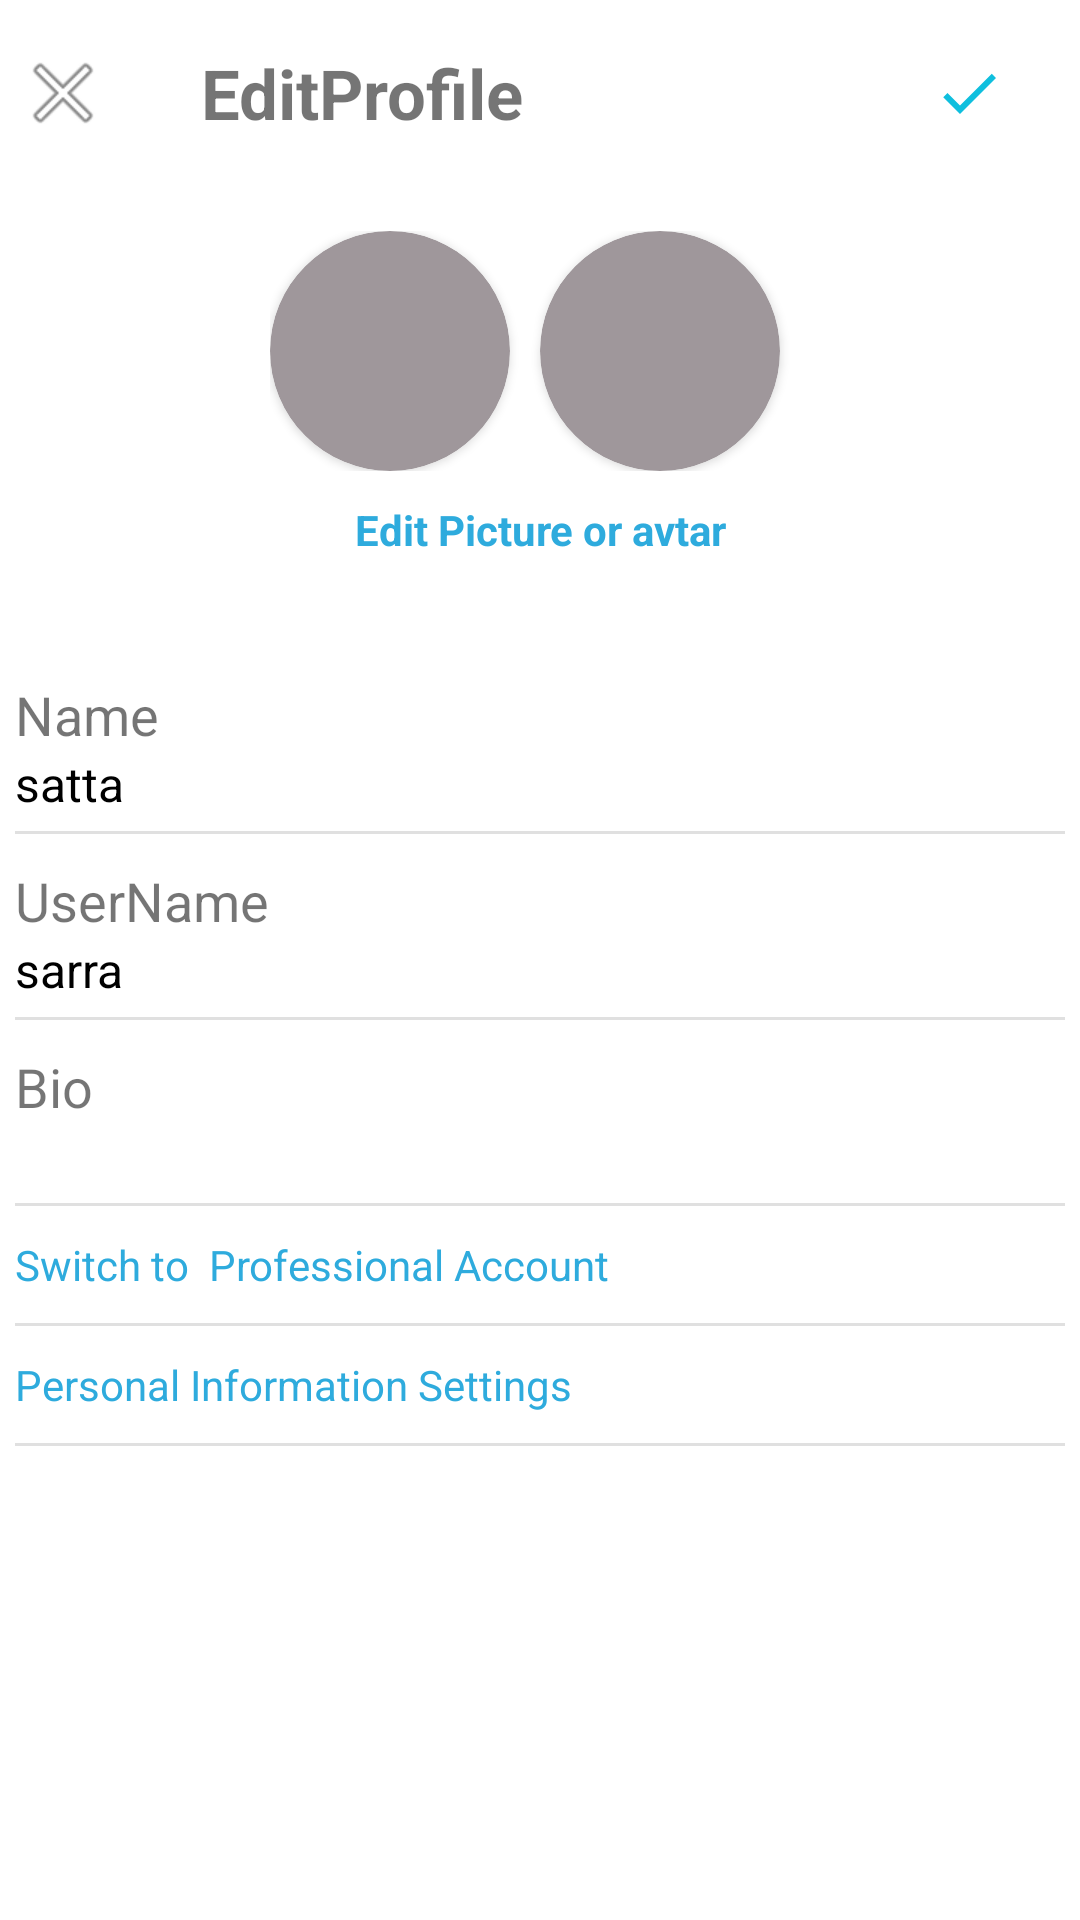

Icon bounding boxes for this 1080*1920 phone screenshot, format {"left": x1, "top": y1, "right": x2, "bottom": y2}:
close clear cancel: {"left": 33, "top": 63, "right": 93, "bottom": 123}
right check: {"left": 943, "top": 74, "right": 996, "bottom": 114}
